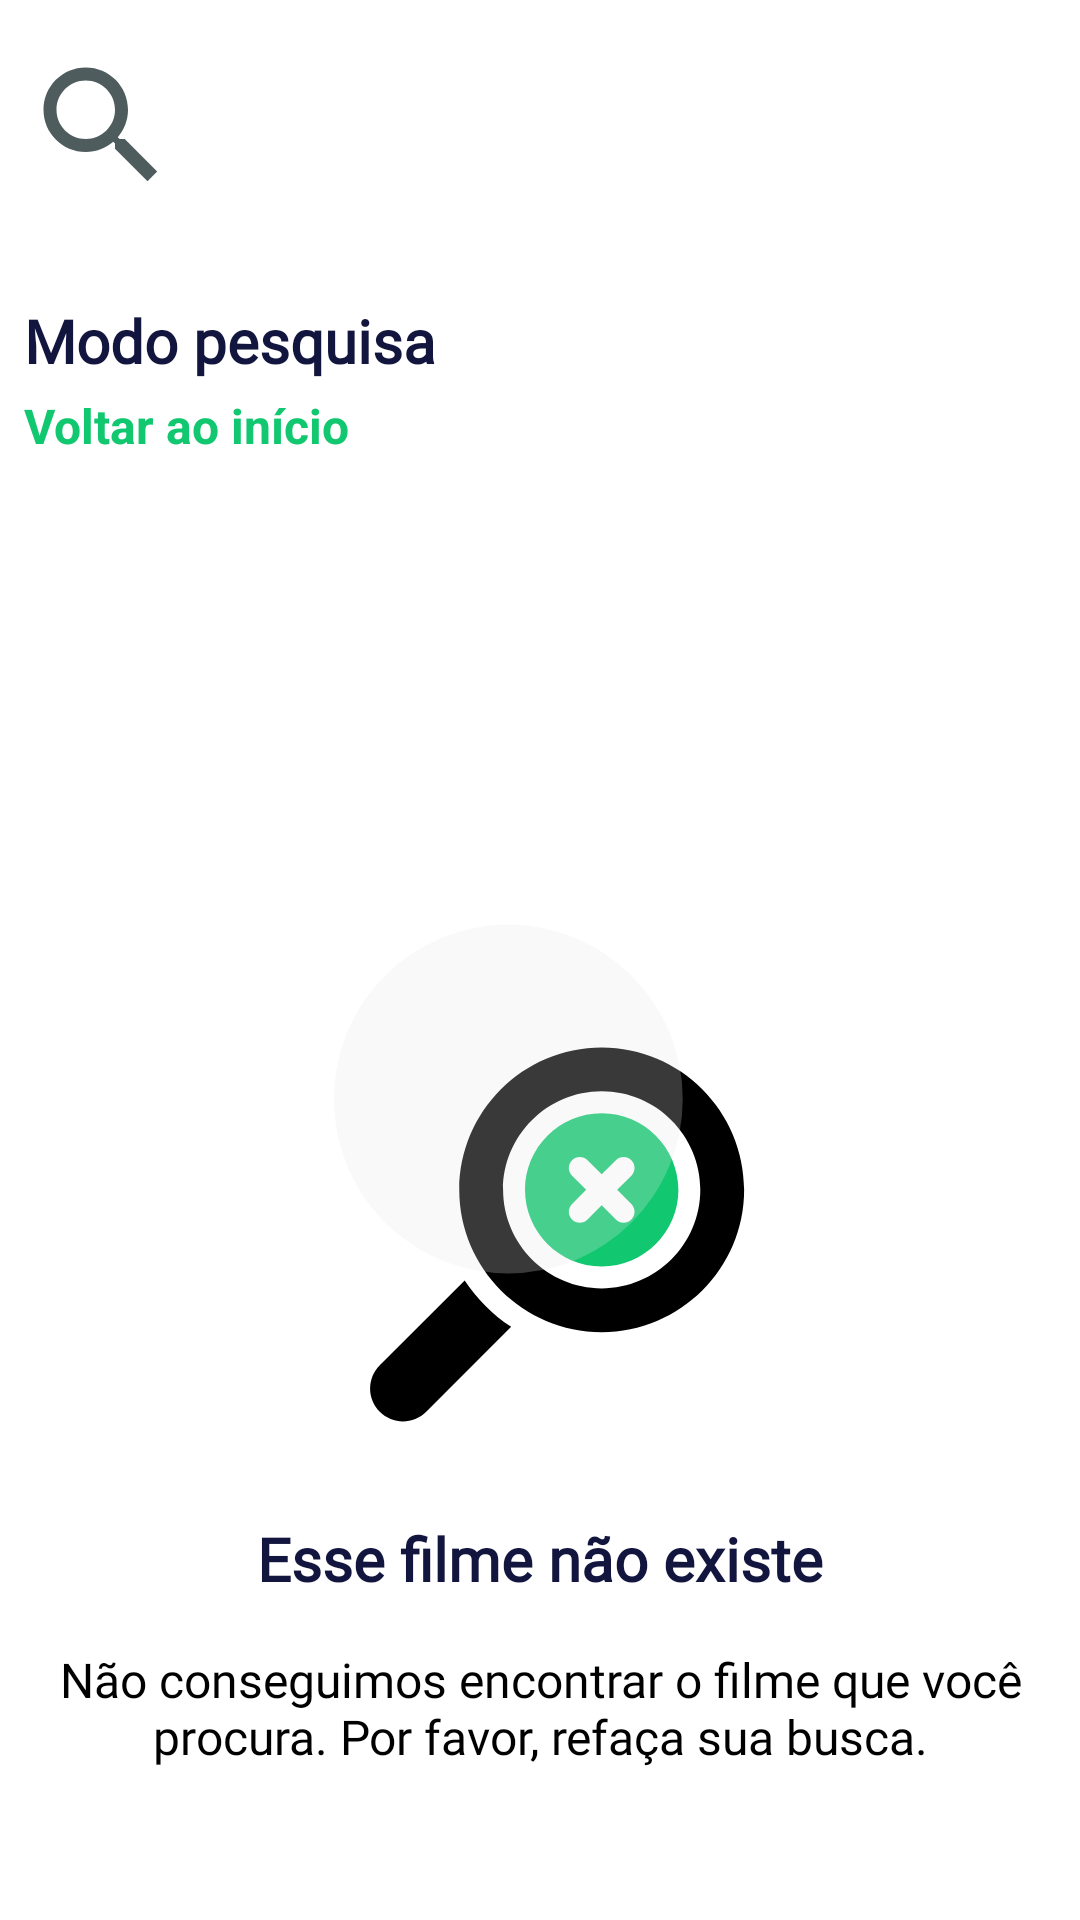

Locate icon controls on the screen. Image size 1080*1920, boxes as (x1, y1, x2, y2).
search: (43, 67, 157, 181)
